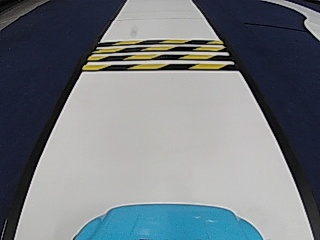bump: (101, 39, 217, 72)
